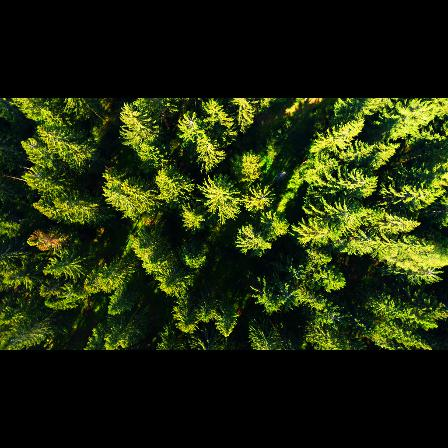Dead: (267, 166, 290, 189)
Sick: (278, 278, 301, 311), (179, 108, 203, 134)
